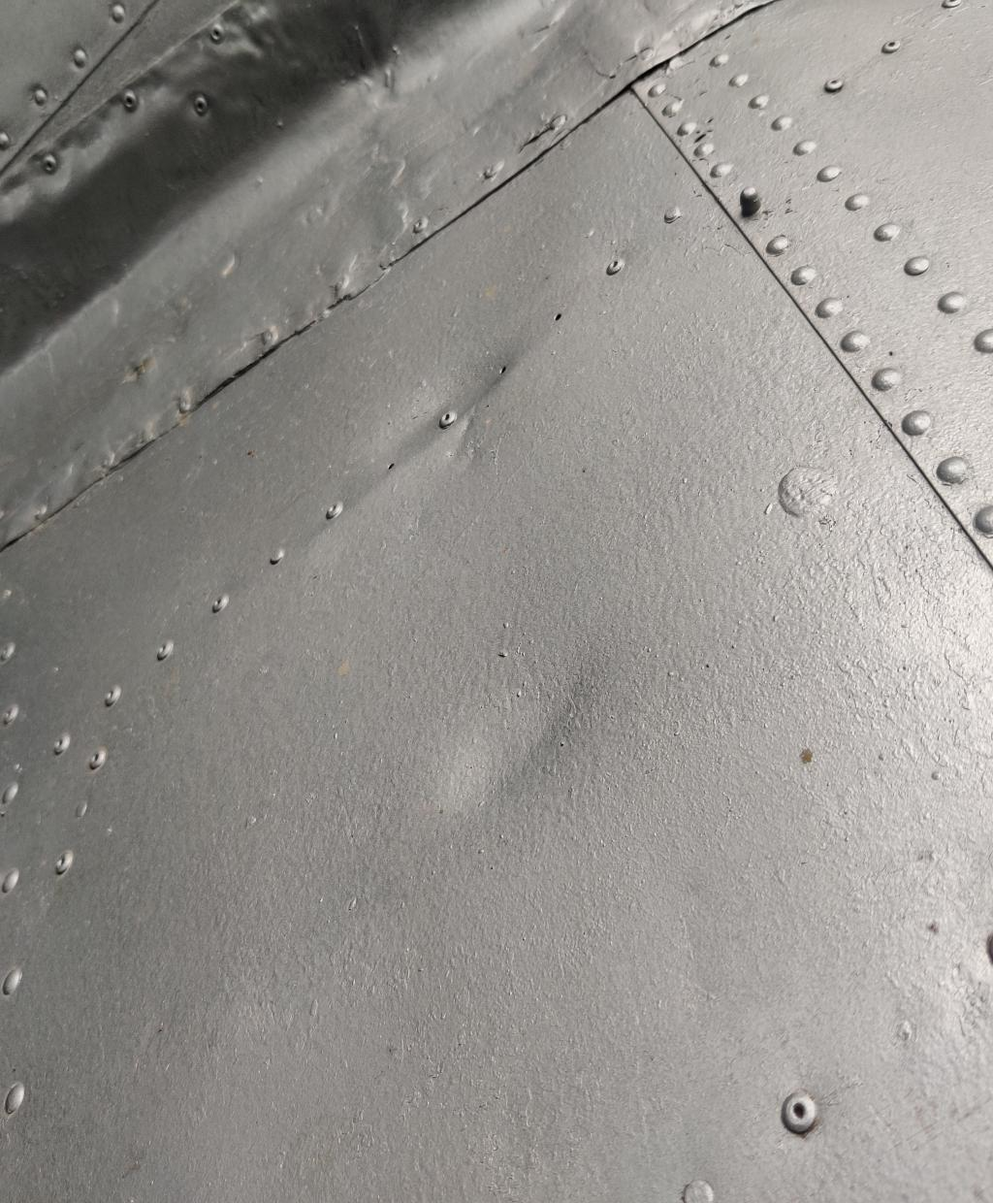dent: (364, 565, 675, 906)
